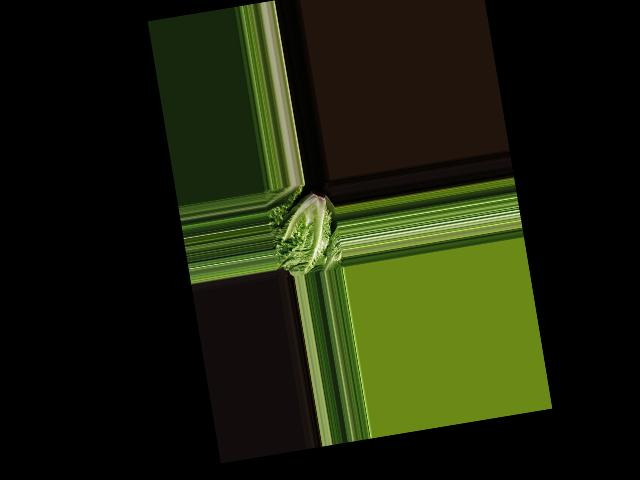lettuce: (269, 184, 345, 277)
